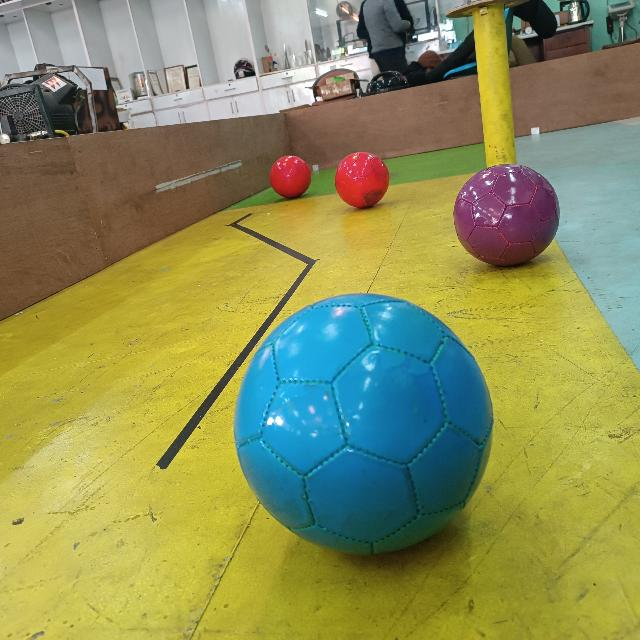B: (228, 288, 496, 560)
P: (452, 162, 562, 268)
R: (334, 150, 391, 210), (268, 154, 312, 200)
